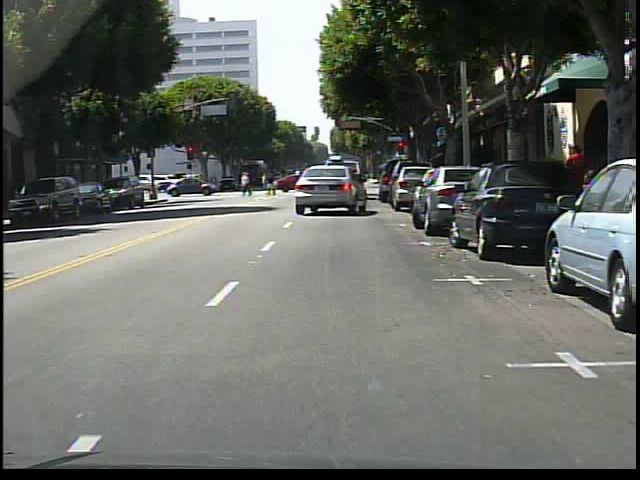person: (564, 142, 592, 220), (241, 172, 255, 196), (268, 169, 280, 197), (264, 174, 265, 190)
